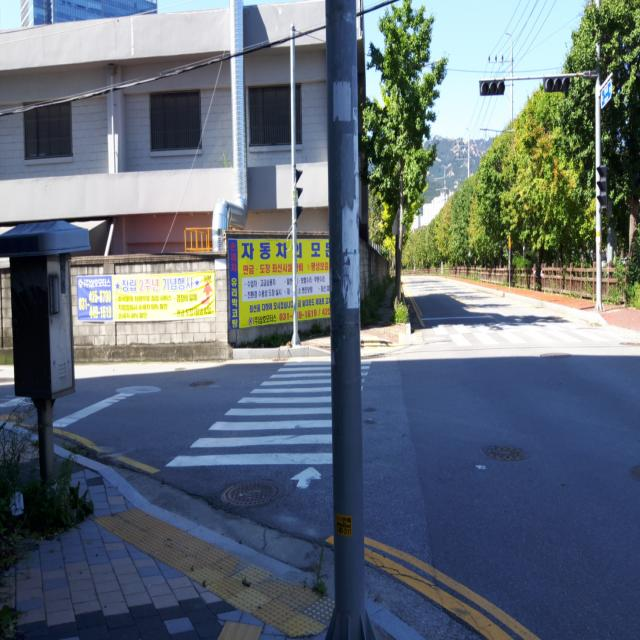횡단보도: (163, 354, 373, 493), (417, 310, 637, 359)
